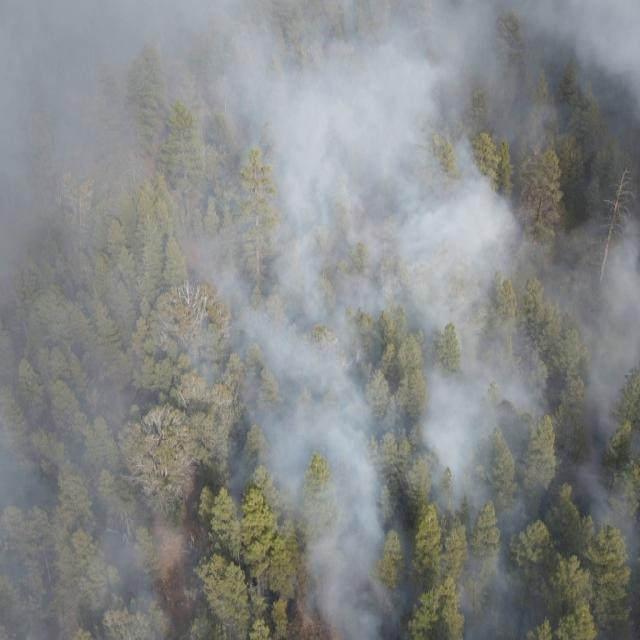smoke: (2, 0, 488, 640), (488, 1, 640, 565), (490, 566, 552, 640)
